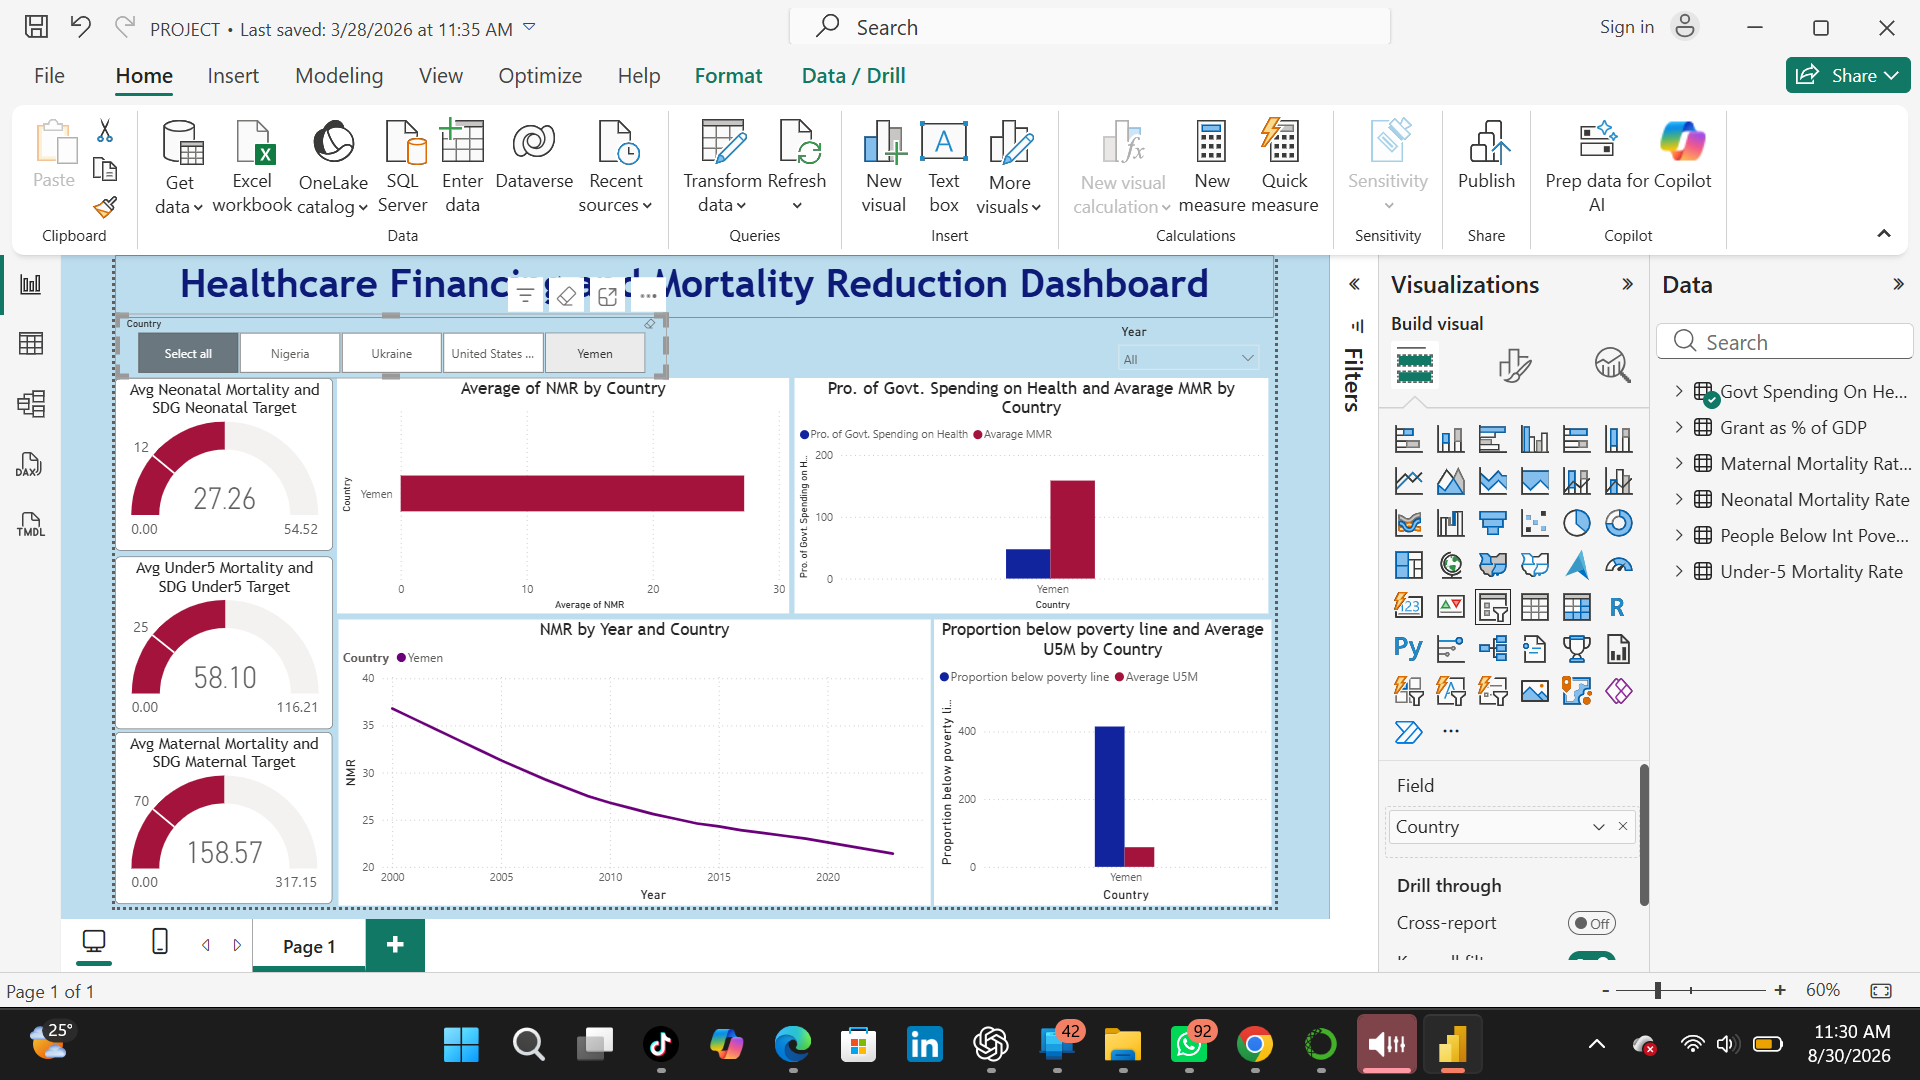

Layout of this report page (visuals, bound fields, positions):
{"tool":"powerbi","page":{"name":"Page 1","canvas":[1280,720],"ordinal":0},"visuals":[{"type":"lineChart","fields":{"Category":["Neonatal Mortality Rate.Year"],"Series":["Neonatal Mortality Rate.Country"],"Y":["Avg(Neonatal Mortality Rate.Value)"]},"box":[246.3,402.1,653.9,315.8],"z":0},{"type":"clusteredBarChart","fields":{"Category":["Neonatal Mortality Rate.Country"],"Y":["Avg(Neonatal Mortality Rate.Value)"]},"box":[244.9,136.3,499.5,260.2],"z":1000},{"type":"clusteredColumnChart","fields":{"Category":["Under-5 Mortality Rate.Country"],"Y":["Sum(People Below Int Poverty Line.Value)","Avg(Under-5 Mortality Rate.Value)"]},"box":[904.3,402.1,372.9,315.8],"z":2000},{"type":"clusteredColumnChart","fields":{"Category":["Maternal Mortality Ratio.Country"],"Y":["Sum(Govt  Spending On Health Servic.Value)","Avg(Maternal Mortality Ratio.Value)"]},"box":[749.9,136.3,523.1,260.2],"z":3000},{"type":"gauge","fields":{"TargetValue":["Govt  Spending On Health Servic.SDG Neonatal Target"],"Y":["Govt  Spending On Health Servic.Avg Neonatal Mortality"]},"box":[0,136.3,240.7,190.6],"z":4000},{"type":"gauge","fields":{"TargetValue":["Govt  Spending On Health Servic.SDG Maternal Target"],"Y":["Govt  Spending On Health Servic.Avg Maternal Mortality"]},"box":[0,527.3,240,190],"z":5000},{"type":"gauge","fields":{"TargetValue":["Govt  Spending On Health Servic.SDG Under5 Target"],"Y":["Govt  Spending On Health Servic.Avg Under5 Mortality"]},"box":[0,332.5,240.7,190.6],"z":6000},{"type":"textbox","box":[0,0,1280,69.6],"z":7000},{"type":"slicer","fields":{"Values":["Govt  Spending On Health Servic.Country"]},"box":[0,64,609.4,72.3],"z":8000},{"type":"slicer","fields":{"Values":["Neonatal Mortality Rate.Year"]},"box":[1097.7,71,175.3,65.4],"z":9000}]}

Visuals, with their boxes on the page's 1280x720 design canvas (x1, y1, x2, y2). These are canvas units, not pixel positions in the 1920x1080 screenshot, which may show the page scaled, cropped or inside an application window:
lineChart - Neonatal Mortality Rate.Year x Neonatal Mortality Rate.Country: x1=246 y1=402 x2=900 y2=718
clusteredBarChart - Neonatal Mortality Rate.Country x Avg(Neonatal Mortality Rate.Value): x1=245 y1=136 x2=744 y2=396
clusteredColumnChart - Under-5 Mortality Rate.Country x Sum(People Below Int Poverty Line.Value): x1=904 y1=402 x2=1277 y2=718
clusteredColumnChart - Maternal Mortality Ratio.Country x Sum(Govt  Spending On Health Servic.Value): x1=750 y1=136 x2=1273 y2=396
gauge - Govt  Spending On Health Servic.SDG Neonatal Target x Govt  Spending On Health Servic.Avg Neonatal Mortality: x1=0 y1=136 x2=241 y2=327
gauge - Govt  Spending On Health Servic.SDG Maternal Target x Govt  Spending On Health Servic.Avg Maternal Mortality: x1=0 y1=527 x2=240 y2=717
gauge - Govt  Spending On Health Servic.SDG Under5 Target x Govt  Spending On Health Servic.Avg Under5 Mortality: x1=0 y1=332 x2=241 y2=523
textbox: x1=0 y1=0 x2=1280 y2=70
slicer - Govt  Spending On Health Servic.Country: x1=0 y1=64 x2=609 y2=136
slicer - Neonatal Mortality Rate.Year: x1=1098 y1=71 x2=1273 y2=136
